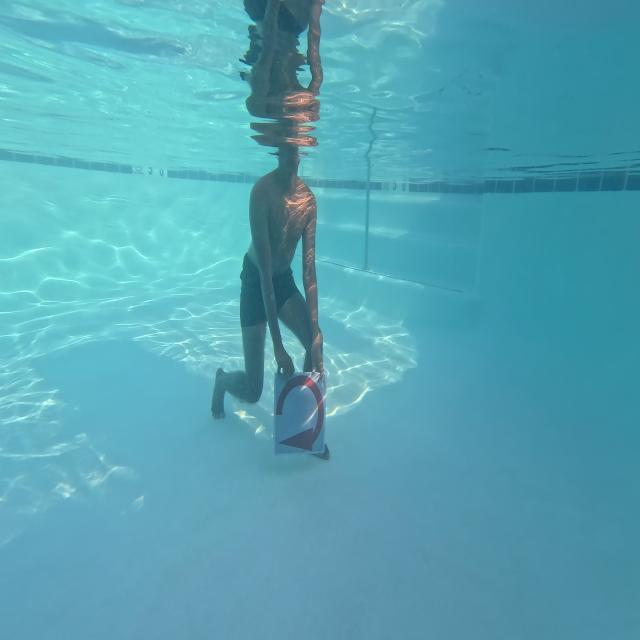red_side: (275, 369, 327, 461)
